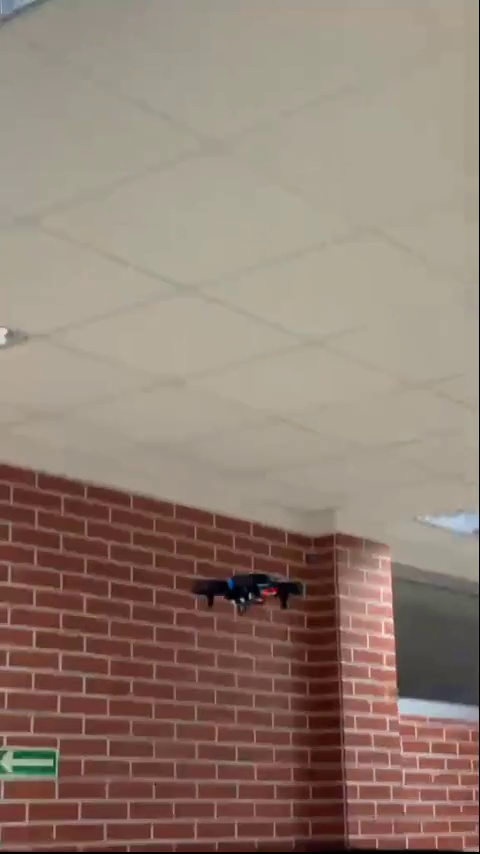drone: (188, 570, 297, 614)
